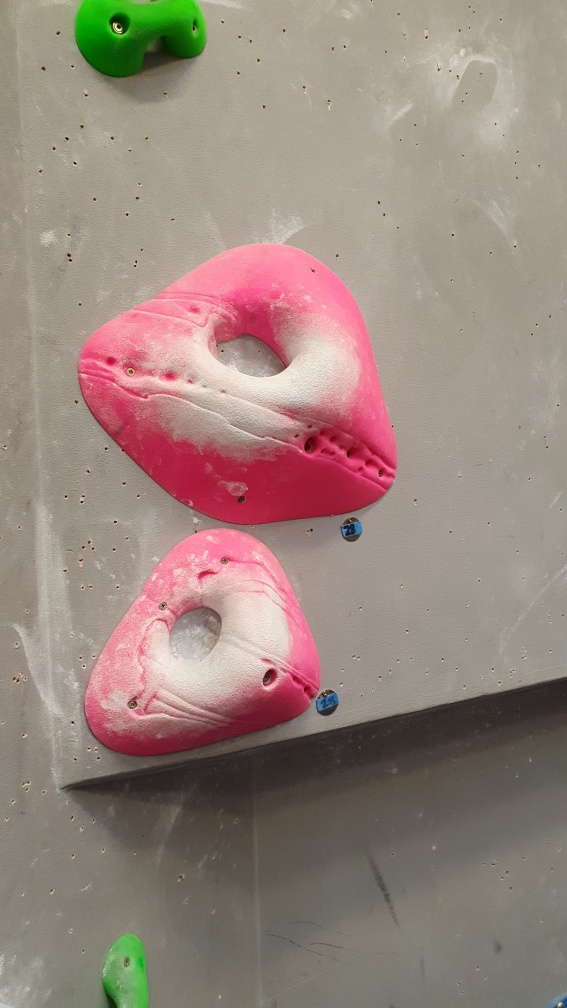Hand Start: (313, 682, 344, 728), (336, 515, 369, 545)
Pocket: (73, 236, 405, 530), (77, 524, 324, 762)
